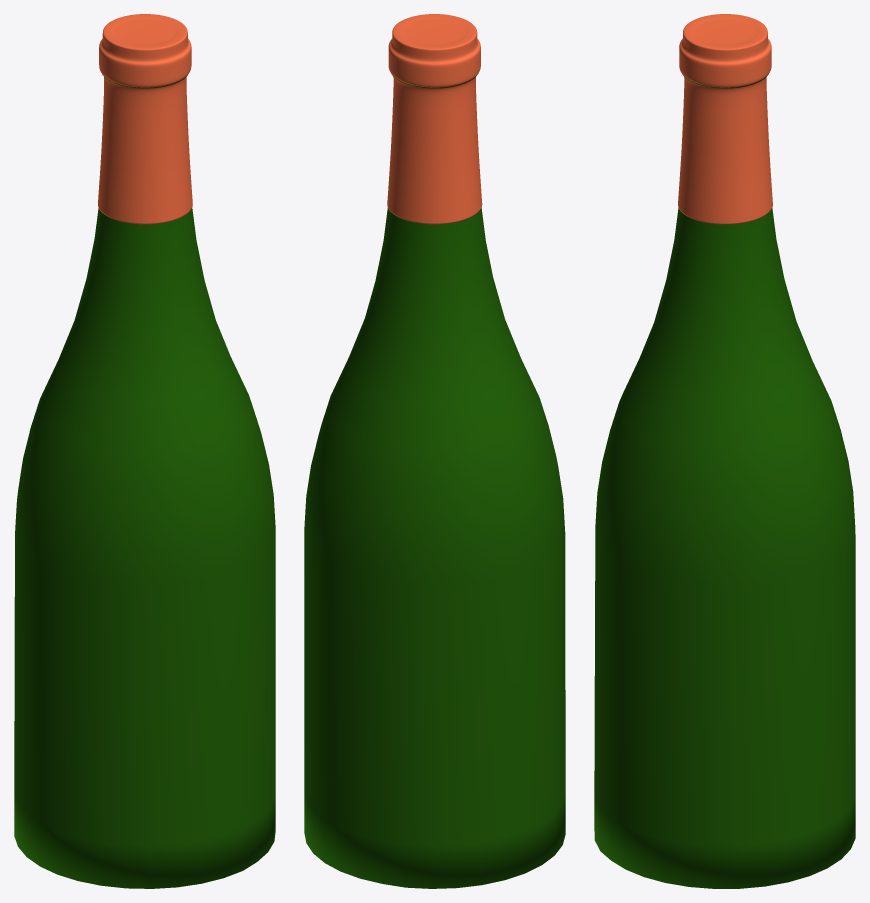
Rendered from wine-bottle-TEST.gltf.
The picture shows the model from 3 angles, left to right: view 1: azimuth 30°, elevation 25°; view 2: azimuth 150°, elevation 25°; view 3: azimuth 270°, elevation 25°; orthographic projection.
Parts seen in each view (by area): view 1: Foil, Foil.001; view 2: Foil, Foil.001; view 3: Foil, Foil.001.
Boxes of the visible parts, x1,y1,x2,y2 form: Foil: (14, 74, 275, 888); Foil.001: (98, 14, 192, 224); Foil: (304, 75, 565, 888); Foil.001: (387, 14, 482, 224); Foil: (594, 74, 855, 888); Foil.001: (678, 14, 772, 224).
Bounding box in the file's own units: 0.0857 × 0.2914 × 0.0858.
